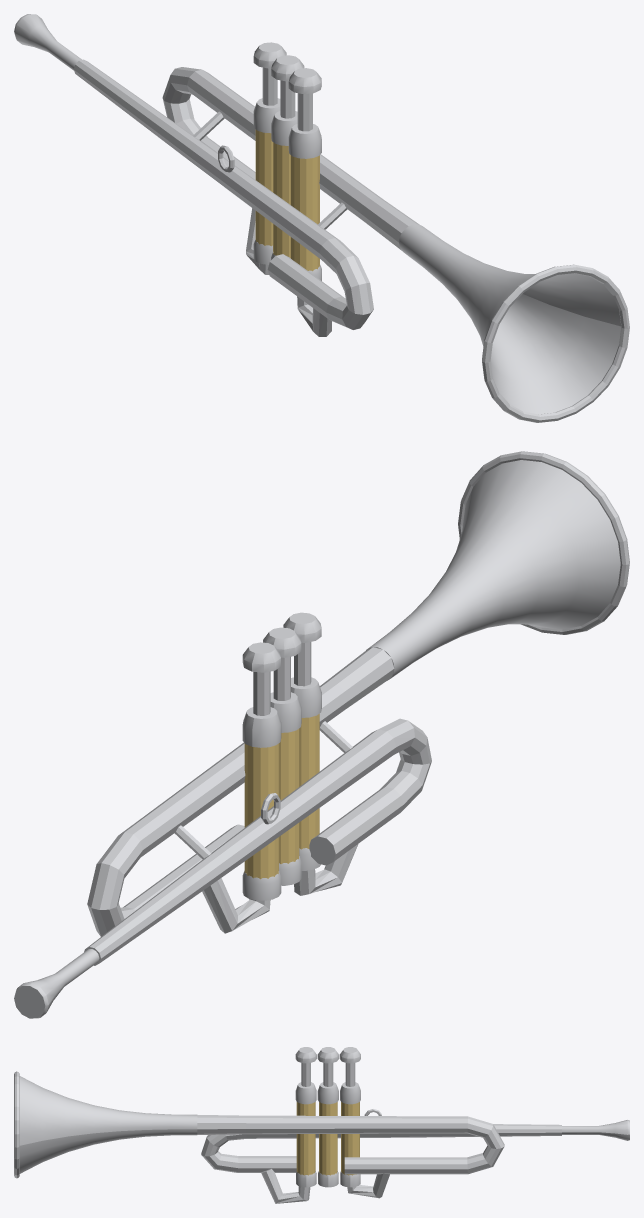
The model's file is orchestra-and-band-instruments-trumpet-silver-finish-af0c2422__39291.glb.
The picture shows the model from 3 angles, top to bottom: view 1: azimuth 30°, elevation 25°; view 2: azimuth 150°, elevation 25°; view 3: azimuth 270°, elevation 25°; orthographic projection. The views are drawn at different scales.
Visible parts, largest first — view 1: trumpet-silver-finish; view 2: trumpet-silver-finish; view 3: trumpet-silver-finish.
Boxes of the visible parts, x1=… form: trumpet-silver-finish: x1=14, y1=14, x2=629, y2=422; trumpet-silver-finish: x1=14, y1=451, x2=629, y2=1018; trumpet-silver-finish: x1=14, y1=1047, x2=629, y2=1203.
Bounding box in the file's own units: 0.131 × 0.2085 × 0.7515.
